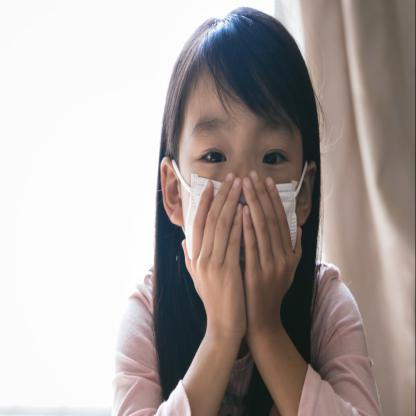Wearing_Mask: (173, 113, 302, 316)
